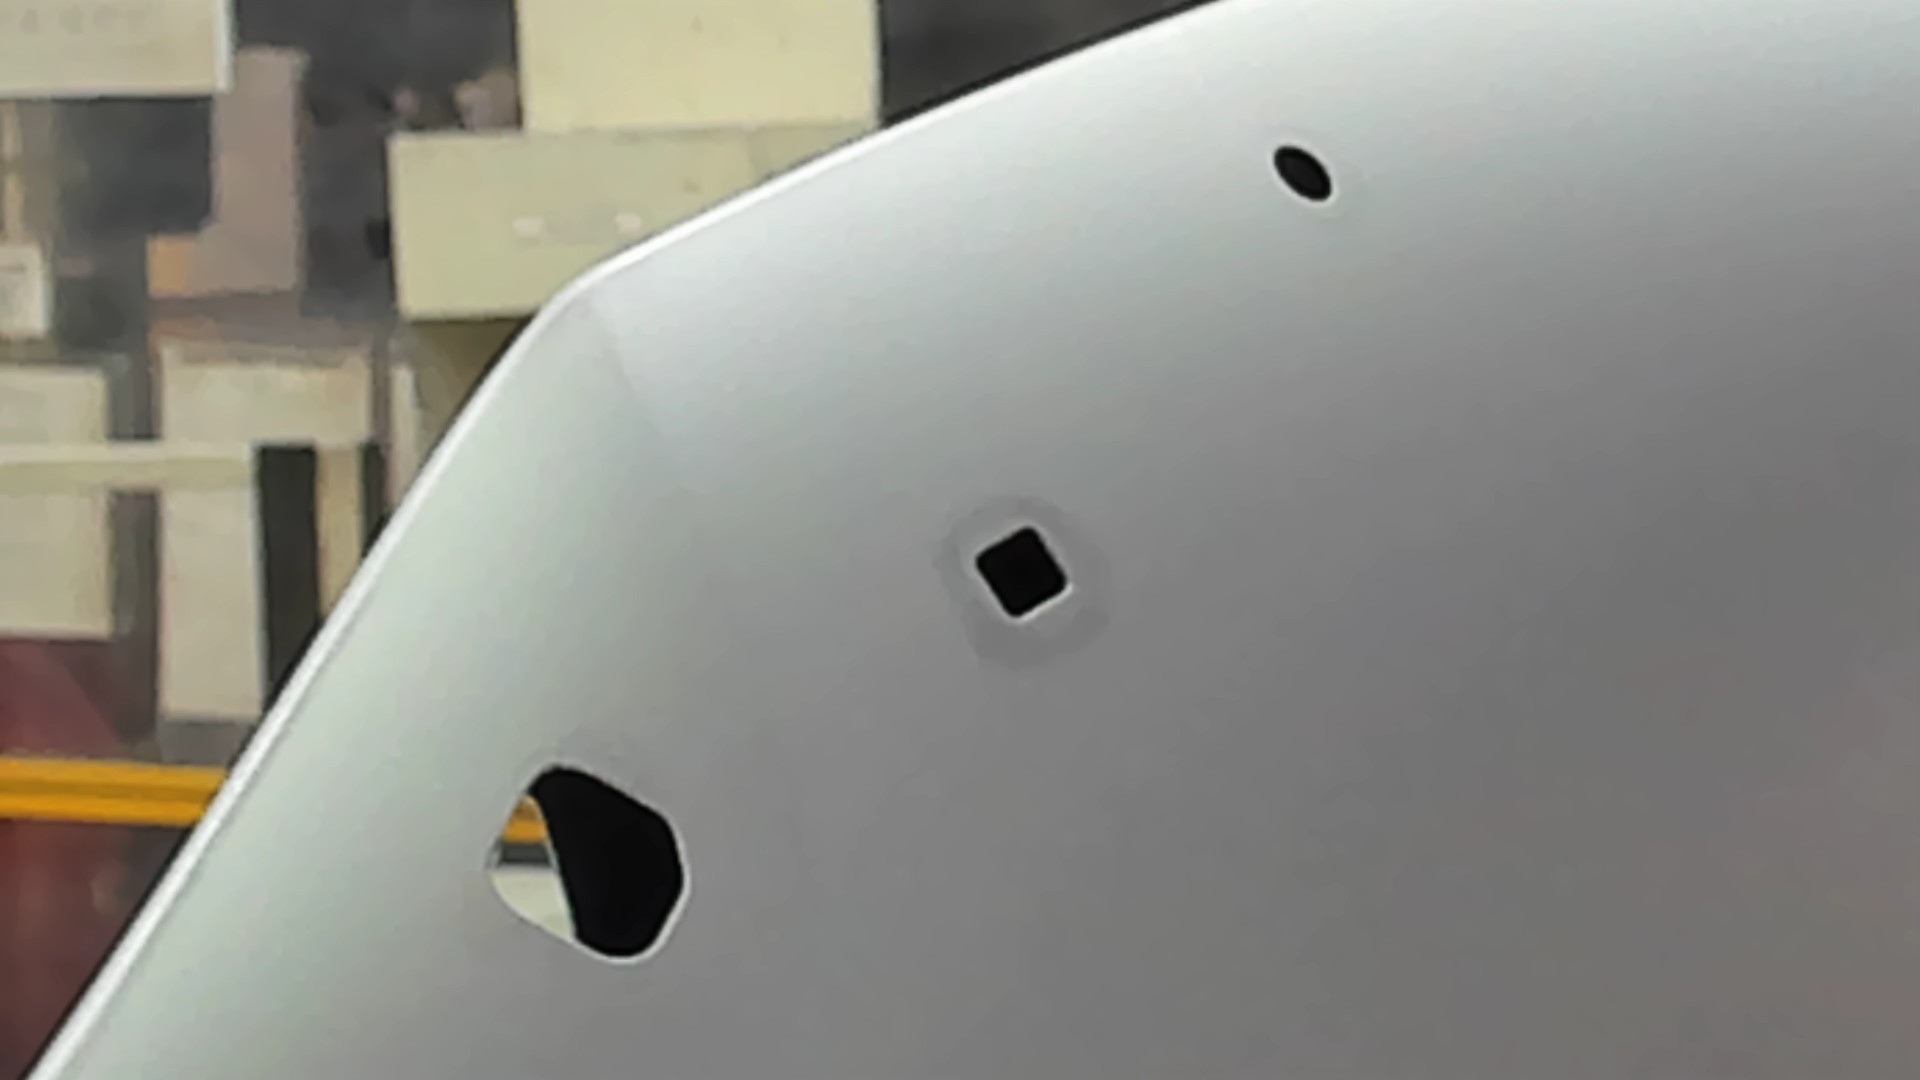capo: (1080, 211, 1920, 1080)
chico: (1270, 141, 1336, 206)
grande: (480, 756, 695, 975)
mediano: (968, 517, 1077, 629)
